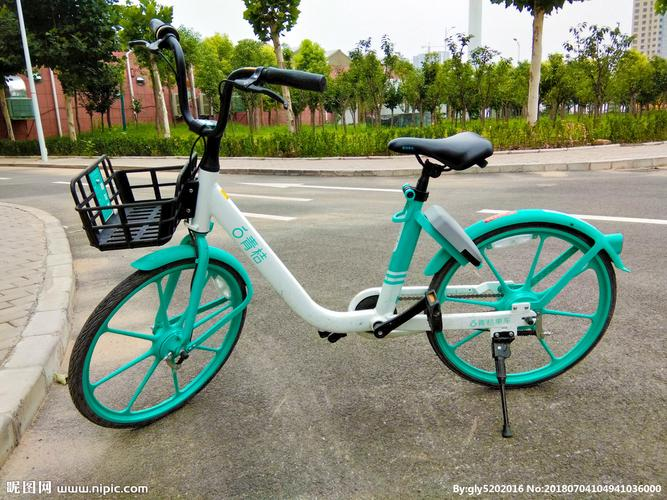单车: (60, 13, 648, 459)
